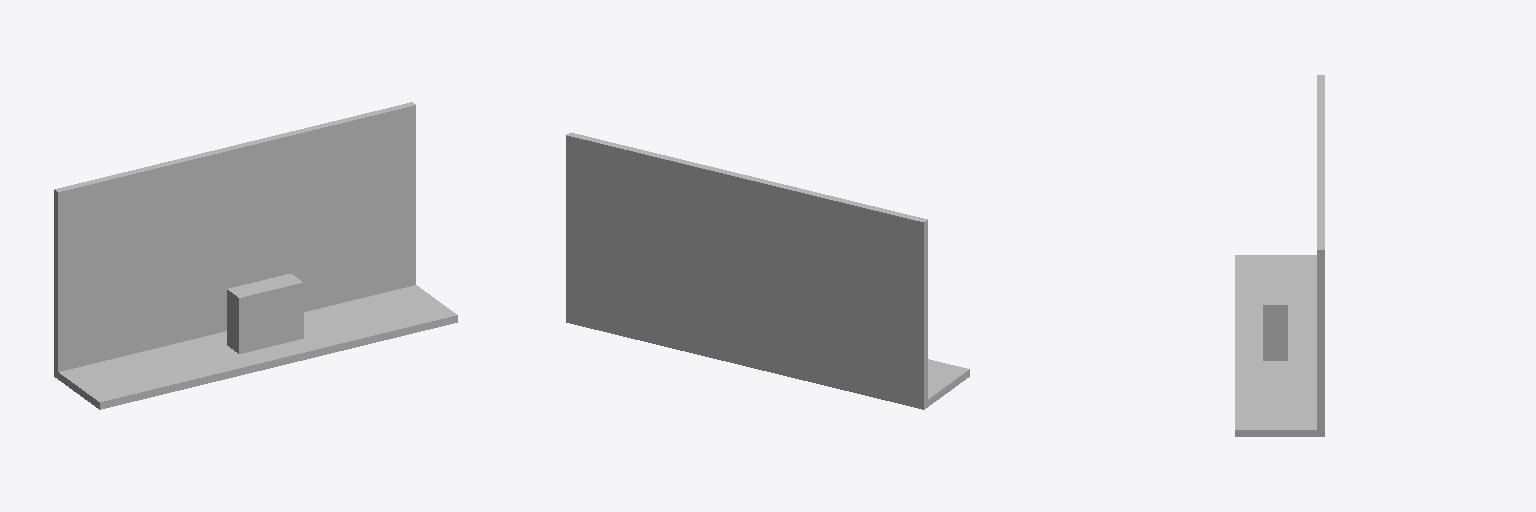
Rendered from cans-shelf.obj.
3 views of the same model, side by side, from view 1: azimuth 30°, elevation 25°; view 2: azimuth 150°, elevation 25°; view 3: azimuth 270°, elevation 25° (orthographic).
Visible parts, largest first — view 1: Object.2, Object.1, Object.4, Object.5, Object.3; view 2: Object.2, Object.1; view 3: Object.1, Object.2, Object.5.
Part boxes in pixels (x1,y1,x2,y2): Object.2: (54, 102, 415, 378); Object.1: (58, 285, 457, 409); Object.4: (227, 284, 260, 353); Object.5: (270, 274, 303, 343); Object.3: (249, 279, 281, 348); Object.2: (566, 132, 927, 409); Object.1: (928, 359, 969, 406); Object.1: (1235, 255, 1316, 436); Object.2: (1317, 75, 1324, 436); Object.5: (1263, 295, 1287, 360).
Bounding box in the file's own units: 1000 × 500 × 220.